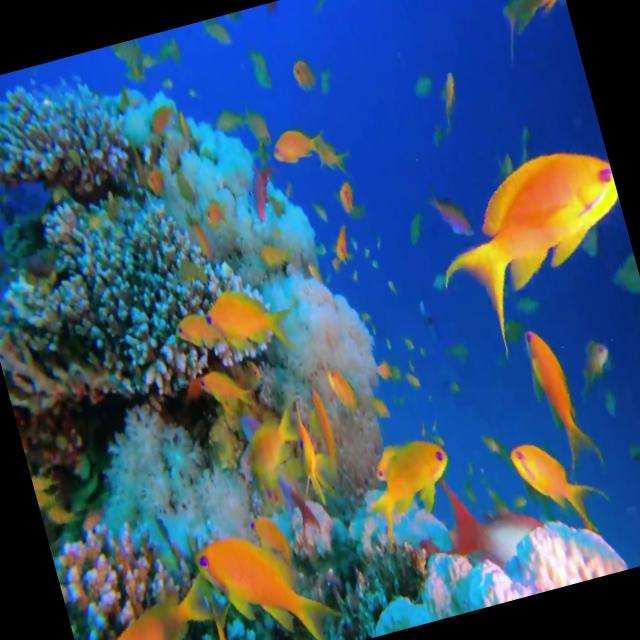fish: (428, 132, 637, 314), (195, 518, 339, 640), (356, 432, 466, 552), (504, 423, 600, 532), (69, 577, 233, 640), (522, 320, 596, 458), (202, 280, 300, 374)
